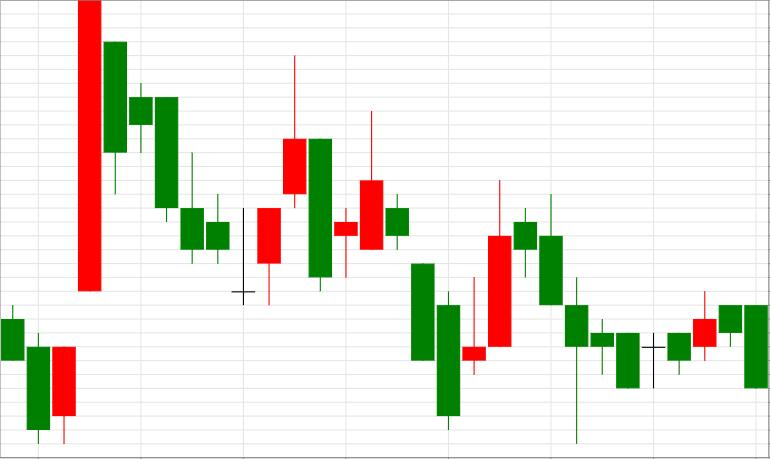morning_star_rise: (104, 41, 281, 306)
